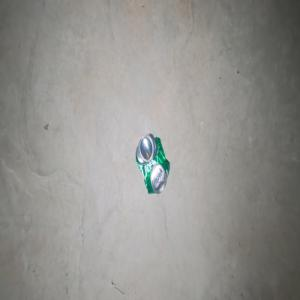SodaCan: (135, 132, 169, 194)
